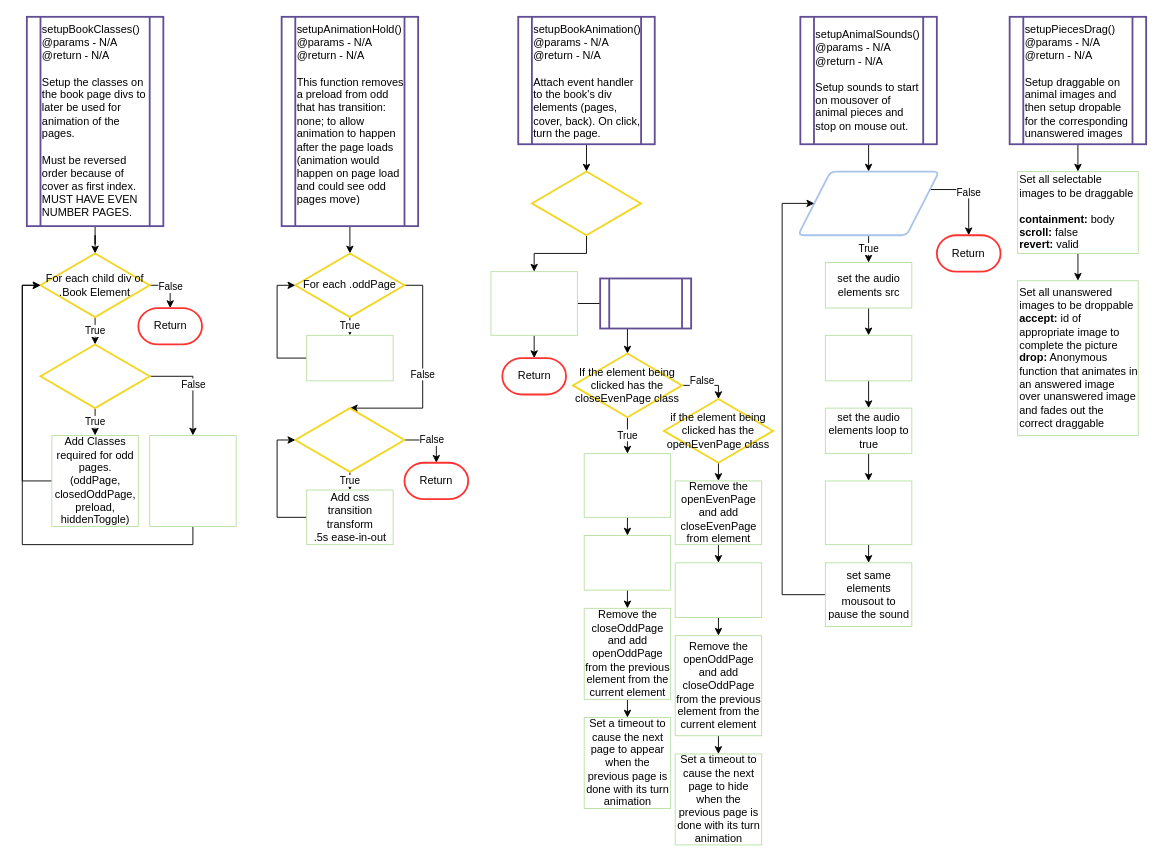
Image size: 1163x861. Some labels were removed from this diagram. Here are the shapes that lost their labels. From the top down, the centre of each, then its label:
At (586,203): "For each div element of .Book element".
At (868,203): "If there are more elements to setup audio for Create unique empty audio element".
At (533,303): "Setup Anonymous function to click event".
At (645,303): "Anonymous function".
At (94,376): "If index % 2 == 0 (even index because starts on back)".
At (349,357): "Remove preload class".
At (868,357): "set the audio elements volume".
At (349,439): "For each .oddPage and .evenPage".
At (192,480): "Add Classes required for even pages. (evenPage, closeEvenPage)".
At (627,485): "Remove the closeEvenPage and add openEvenPage from element".
At (868,512): "set the appropriate elements mousover to play the sound".
At (627,562): "add z-axis css to element set on current position increasing".
At (718,589): "Remove z-axis css from element".
